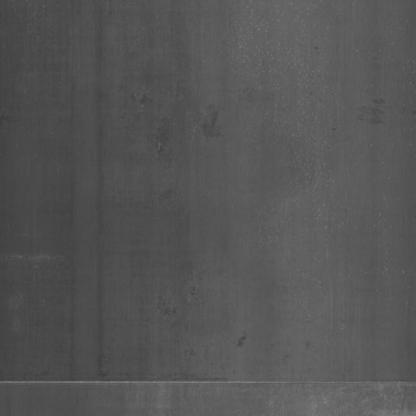welding_line: (4, 370, 416, 398)
